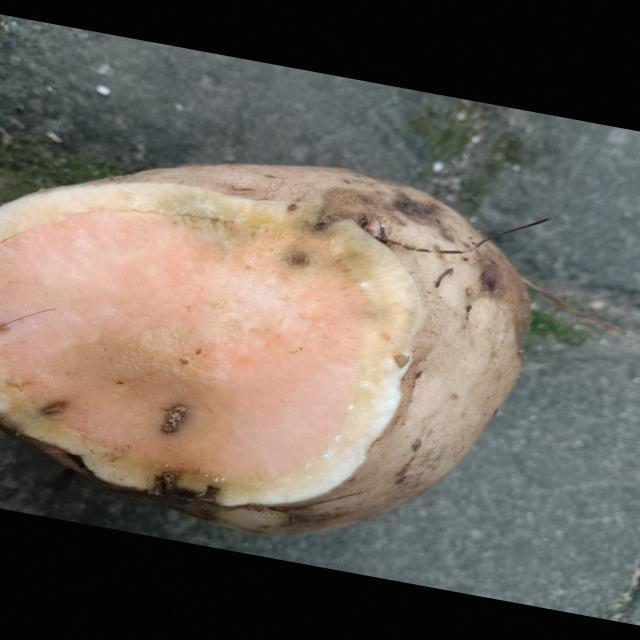Sick Sweet Potato_Tuber Rot: (2, 182, 418, 506)
